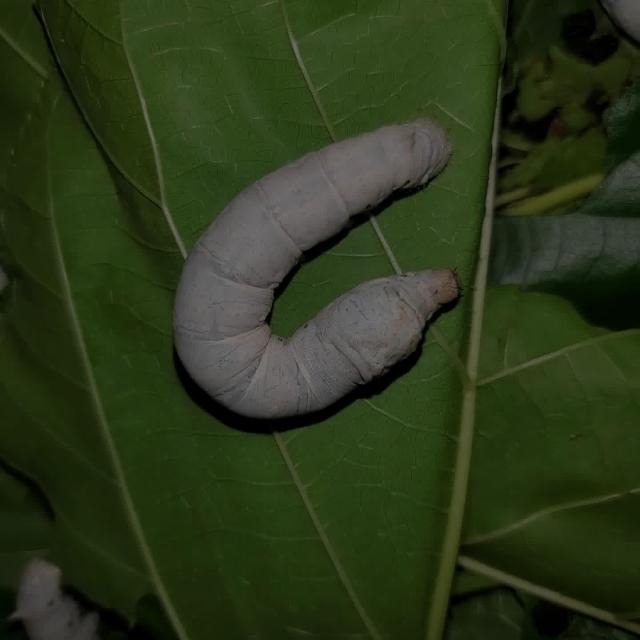Healthy: (160, 104, 473, 437)
